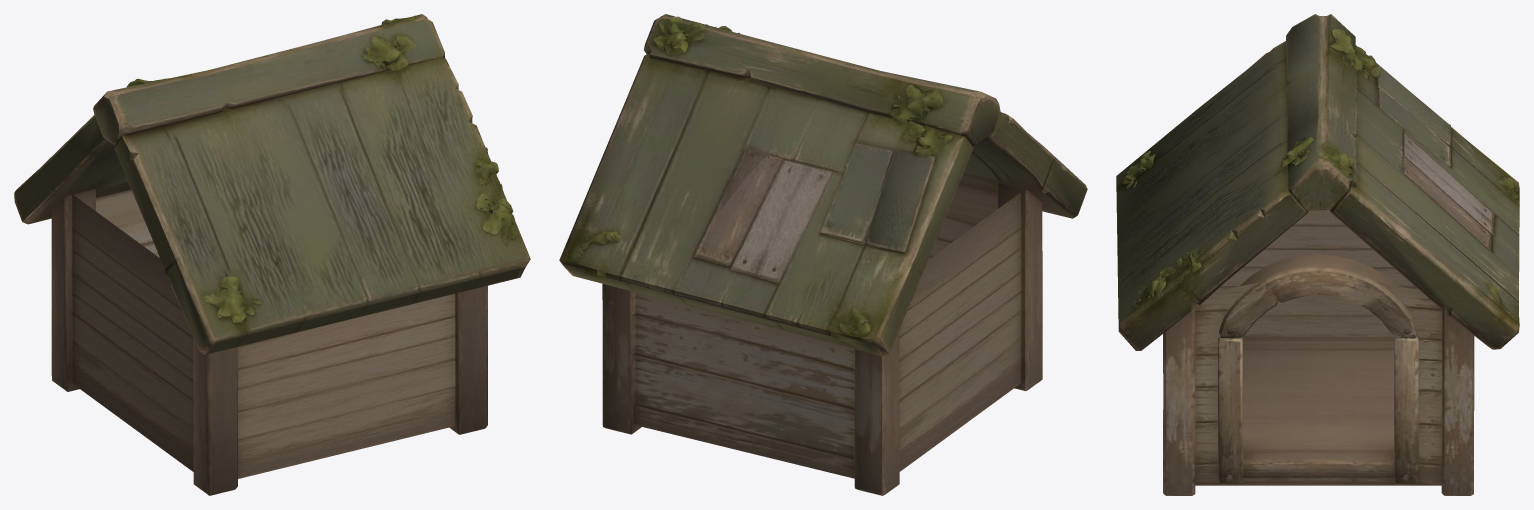
File: dog-house-tripo.glb
3 renders of one model, left to right at view 1: azimuth 30°, elevation 25°; view 2: azimuth 150°, elevation 25°; view 3: azimuth 270°, elevation 25°, orthographic. The views are drawn at different scales.
Parts seen in each view (by area): view 1: tripo_node_bc54d6d5-7fae-43e8-8bec-b12474a55494; view 2: tripo_node_bc54d6d5-7fae-43e8-8bec-b12474a55494; view 3: tripo_node_bc54d6d5-7fae-43e8-8bec-b12474a55494.
Boxes of the visible parts, <box> form: tripo_node_bc54d6d5-7fae-43e8-8bec-b12474a55494: <box>14,14,530,495</box>; tripo_node_bc54d6d5-7fae-43e8-8bec-b12474a55494: <box>559,14,1087,495</box>; tripo_node_bc54d6d5-7fae-43e8-8bec-b12474a55494: <box>1116,14,1519,495</box>.
Size of the model in its own units: 0.9277 by 0.9395 by 0.998.
Materials: 1 (1 with a texture image).
